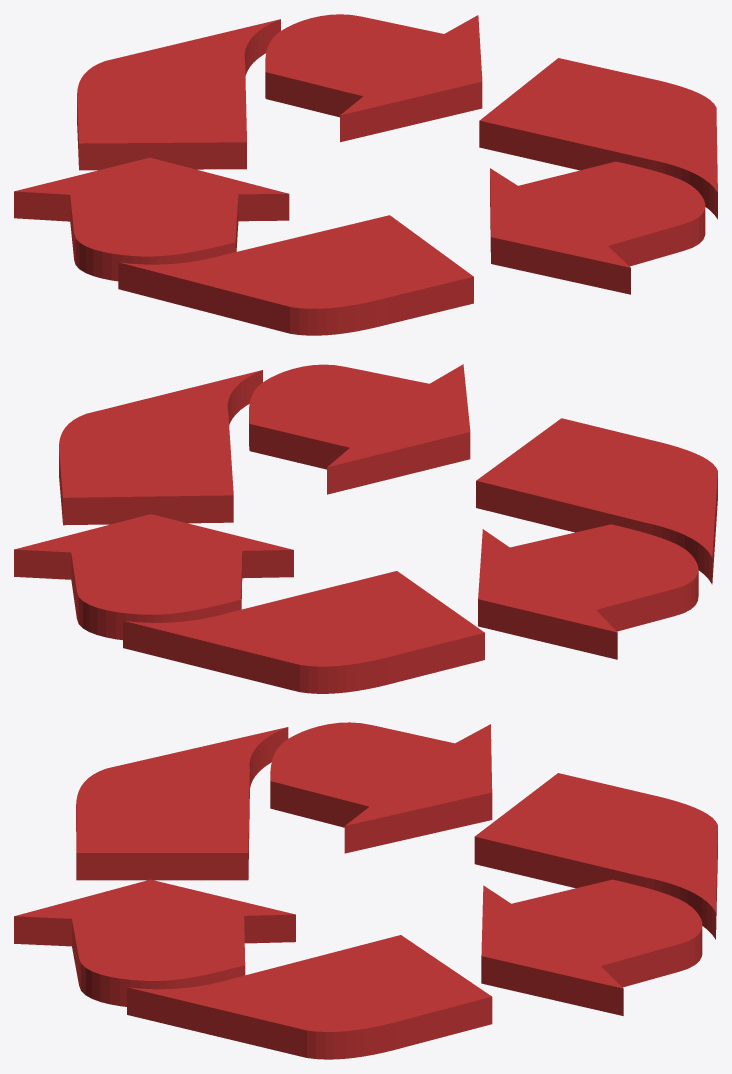
Rendered from trashcan.glb.
3 views of the same model, one above another, from view 1: azimuth 30°, elevation 25°; view 2: azimuth 150°, elevation 25°; view 3: azimuth 270°, elevation 25° (orthographic). The views are drawn at different scales.
Parts seen in each view (by area): view 1: Path - baked; view 2: Path - baked; view 3: Path - baked.
Boxes of the visible parts, box(x1,y1,x2,y2) form: Path - baked: box(14, 14, 717, 335); Path - baked: box(14, 364, 717, 693); Path - baked: box(14, 722, 717, 1059).
Size of the model in its own units: 0.1942 by 0.00806 by 0.1866.
